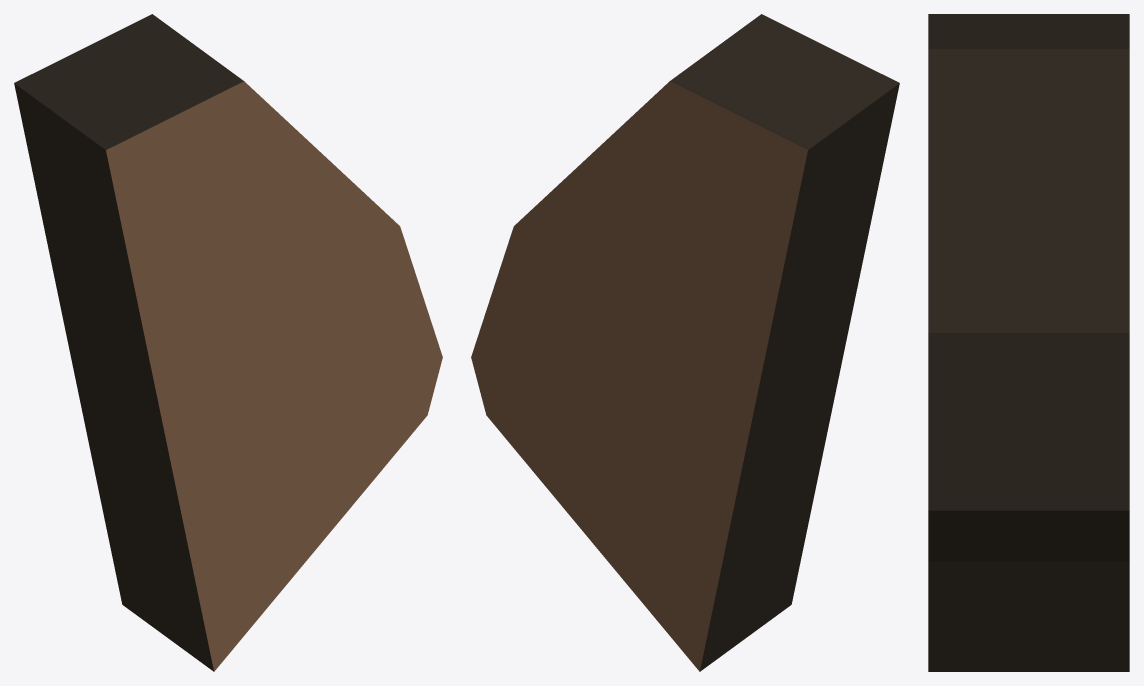
File: SM_DoorShard_03_48.fbx
3 views of the same model, side by side, from view 1: azimuth 30°, elevation 25°; view 2: azimuth 150°, elevation 25°; view 3: azimuth 270°, elevation 25° (orthographic). The views are drawn at different scales.
Visible parts, largest first — view 1: SM_DoorShard_03_48; view 2: SM_DoorShard_03_48; view 3: SM_DoorShard_03_48.
Boxes of the visible parts, <box> form: SM_DoorShard_03_48: <box>14,14,442,671</box>; SM_DoorShard_03_48: <box>471,14,899,671</box>; SM_DoorShard_03_48: <box>928,14,1129,671</box>.
Size of the model in its own units: 33.89 by 16 by 56.06.
